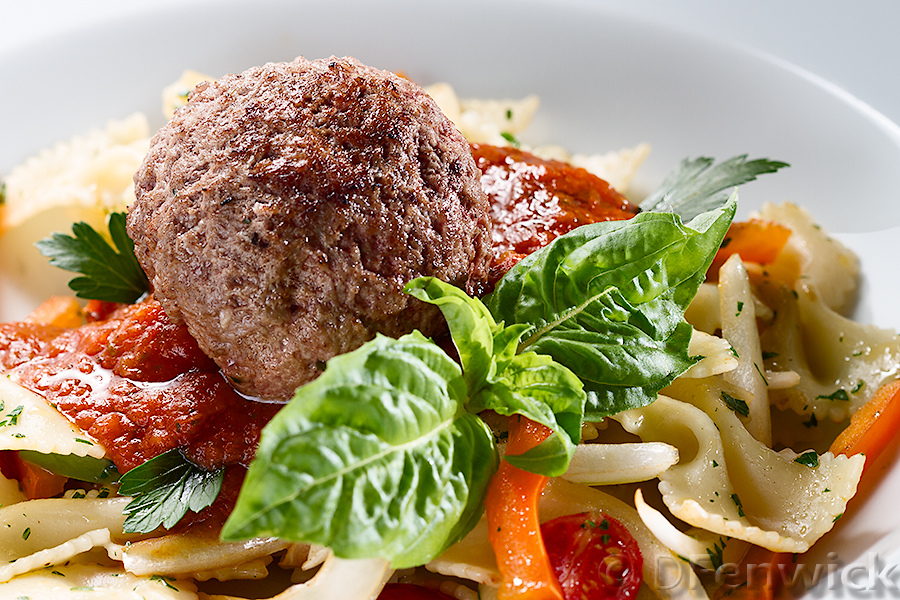chopped lettuce: (227, 212, 729, 566)
meatballs: (134, 58, 482, 357)
plain spaghetti: (589, 295, 878, 567)
